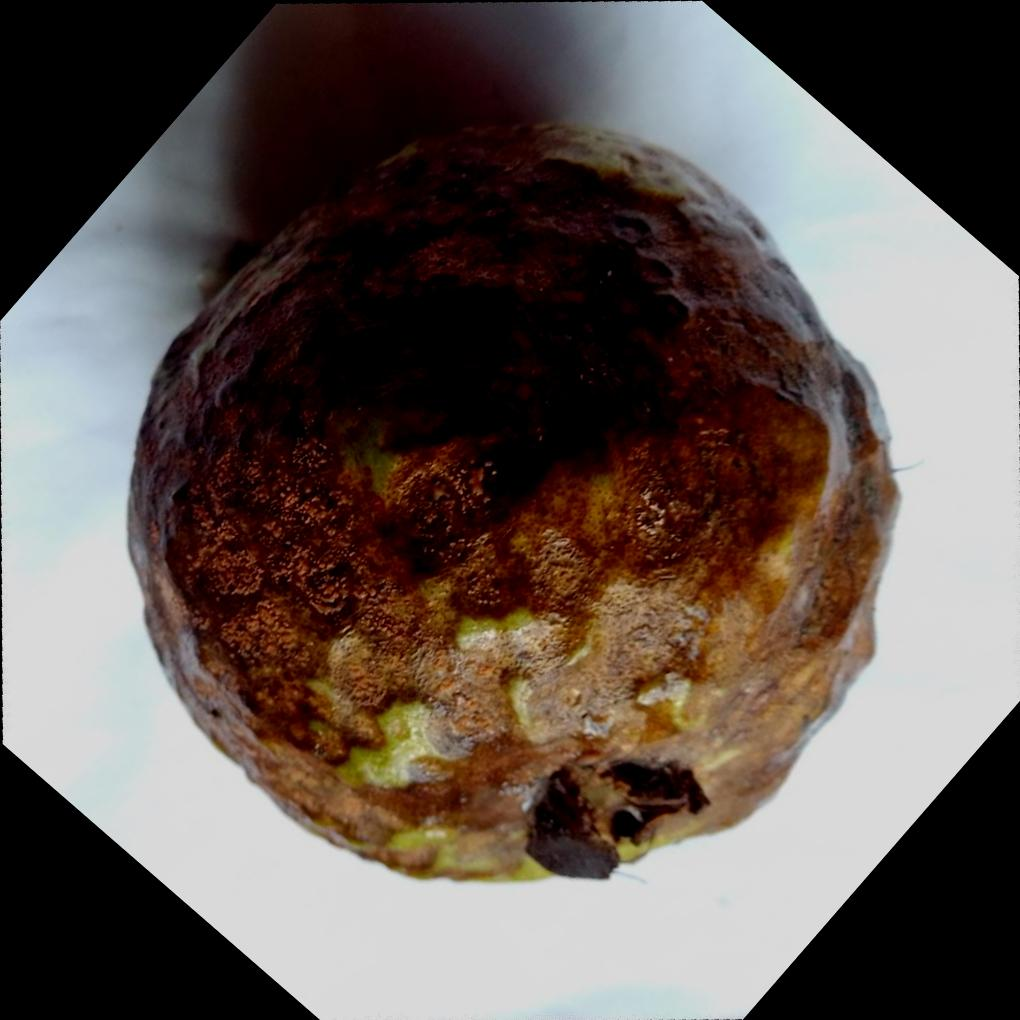FreshOrange: (123, 113, 900, 884)
